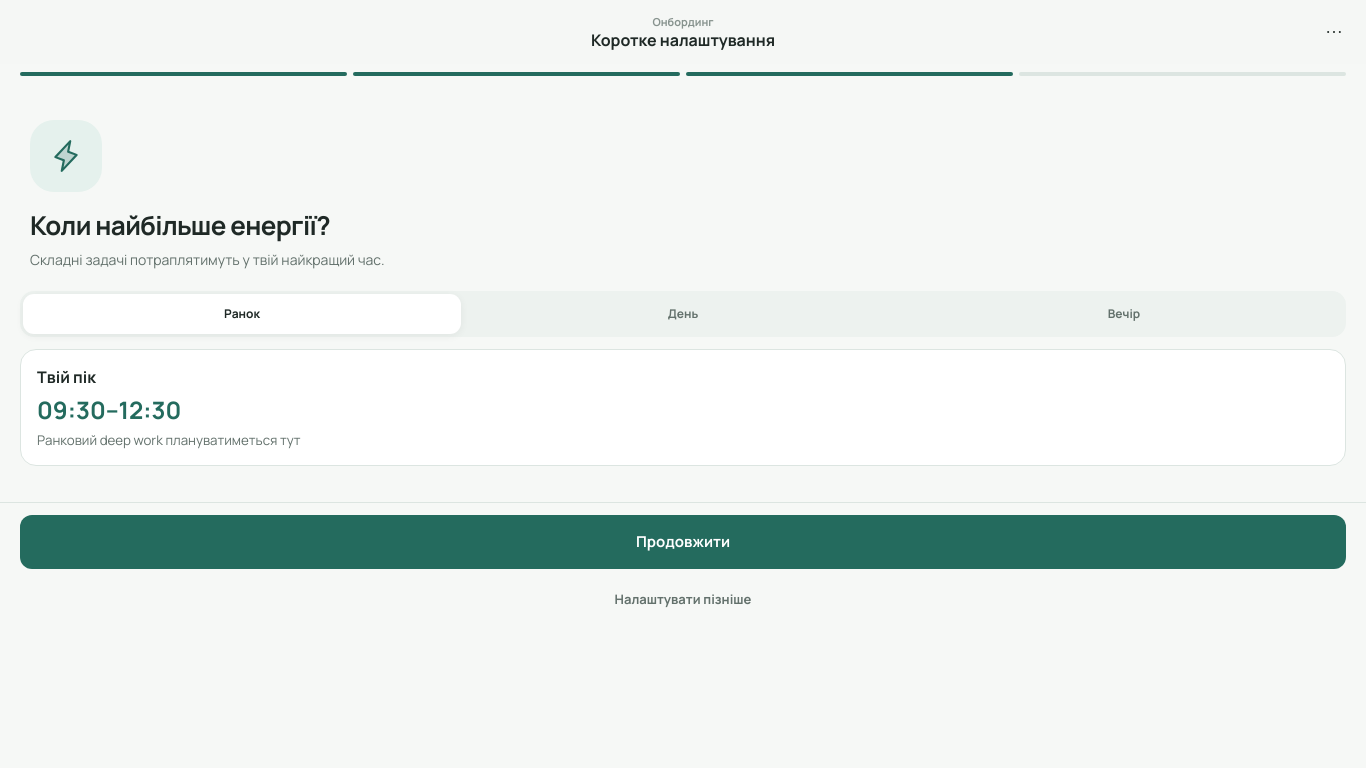
it: updates the energy window when a different energy period is selected
Click the button "Вечір" at coordinates (1124, 314), box [905,294,1343,334]
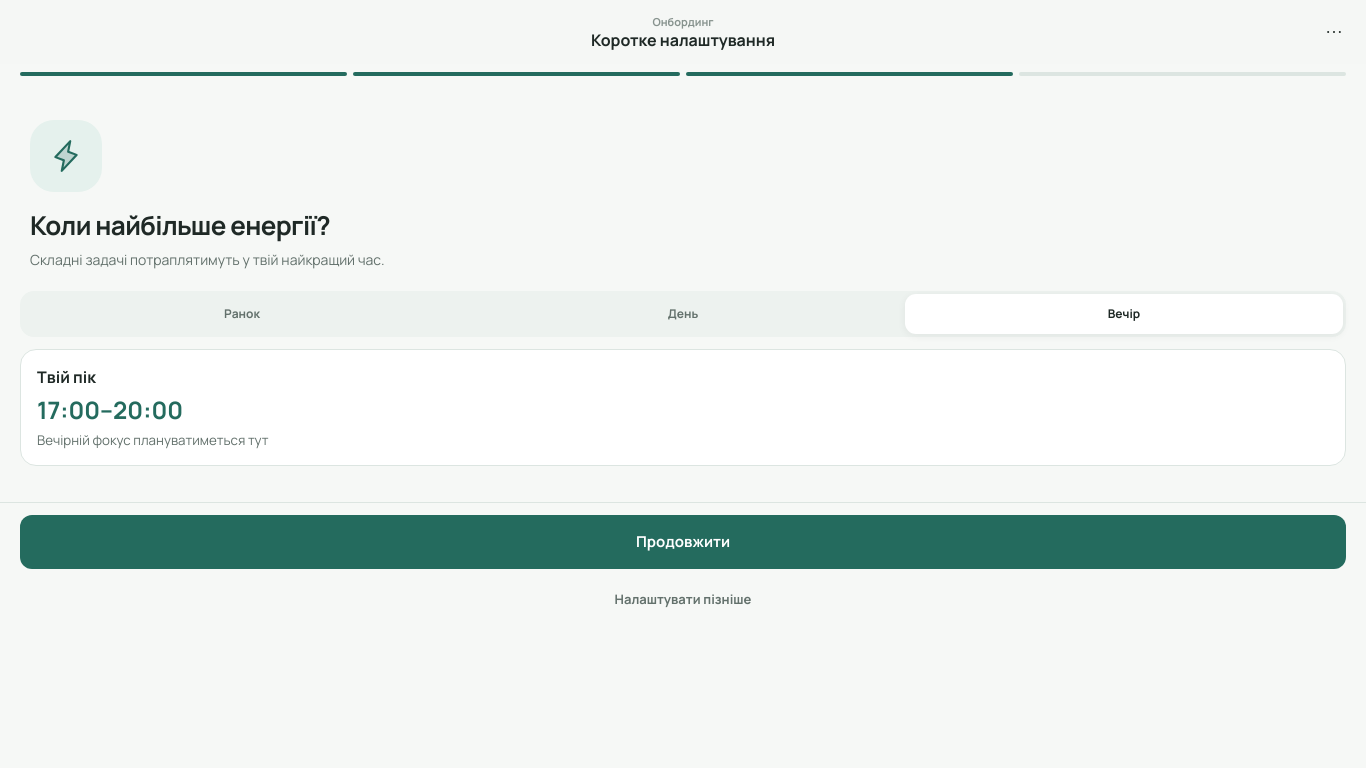
Expected: the text "17:00–20:00" is shown, [37,393,183,426]
Expected: the text "Вечірній фокус плануватиметься тут" is shown, [37,431,268,449]
